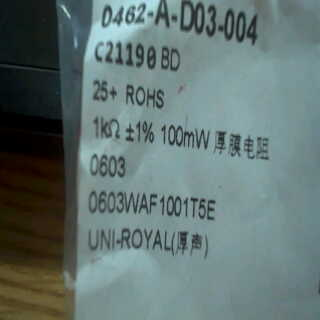1kR: (91, 113, 123, 147)
